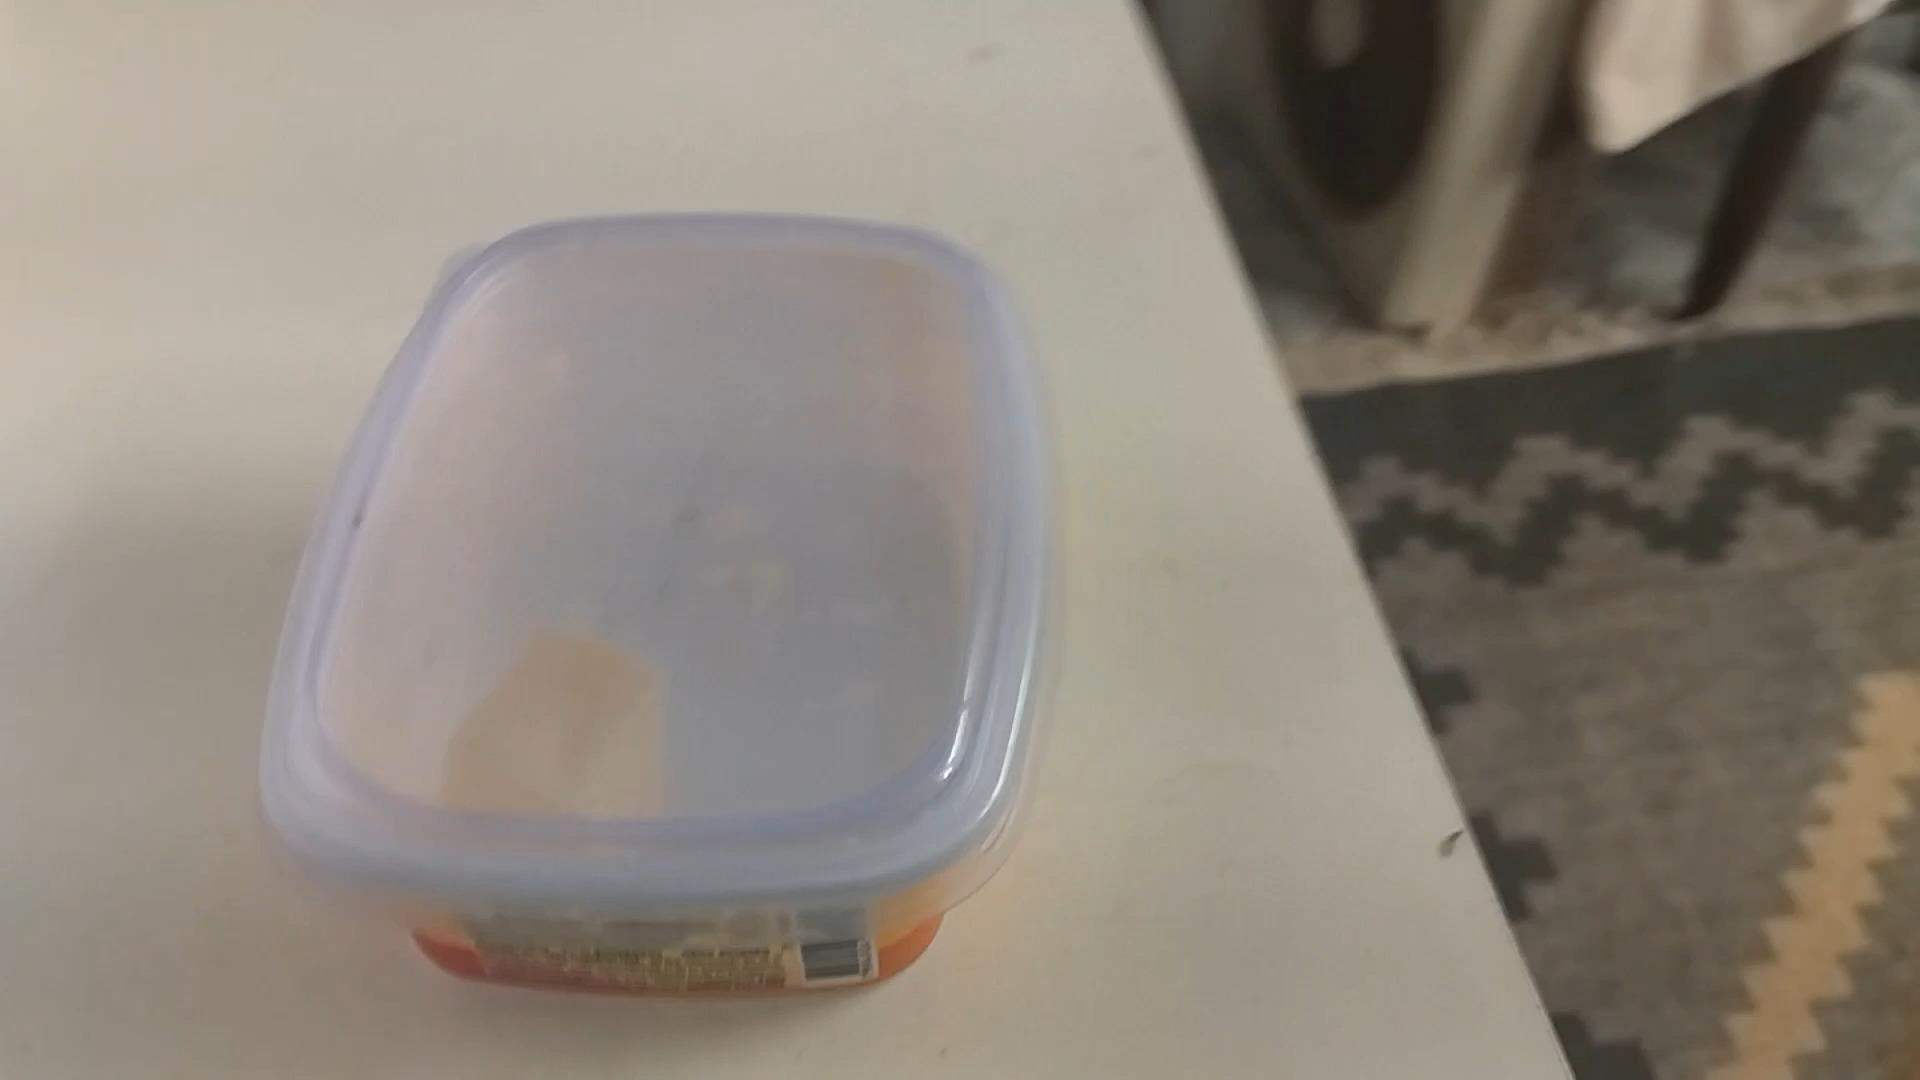butter: (261, 223, 1048, 1004)
